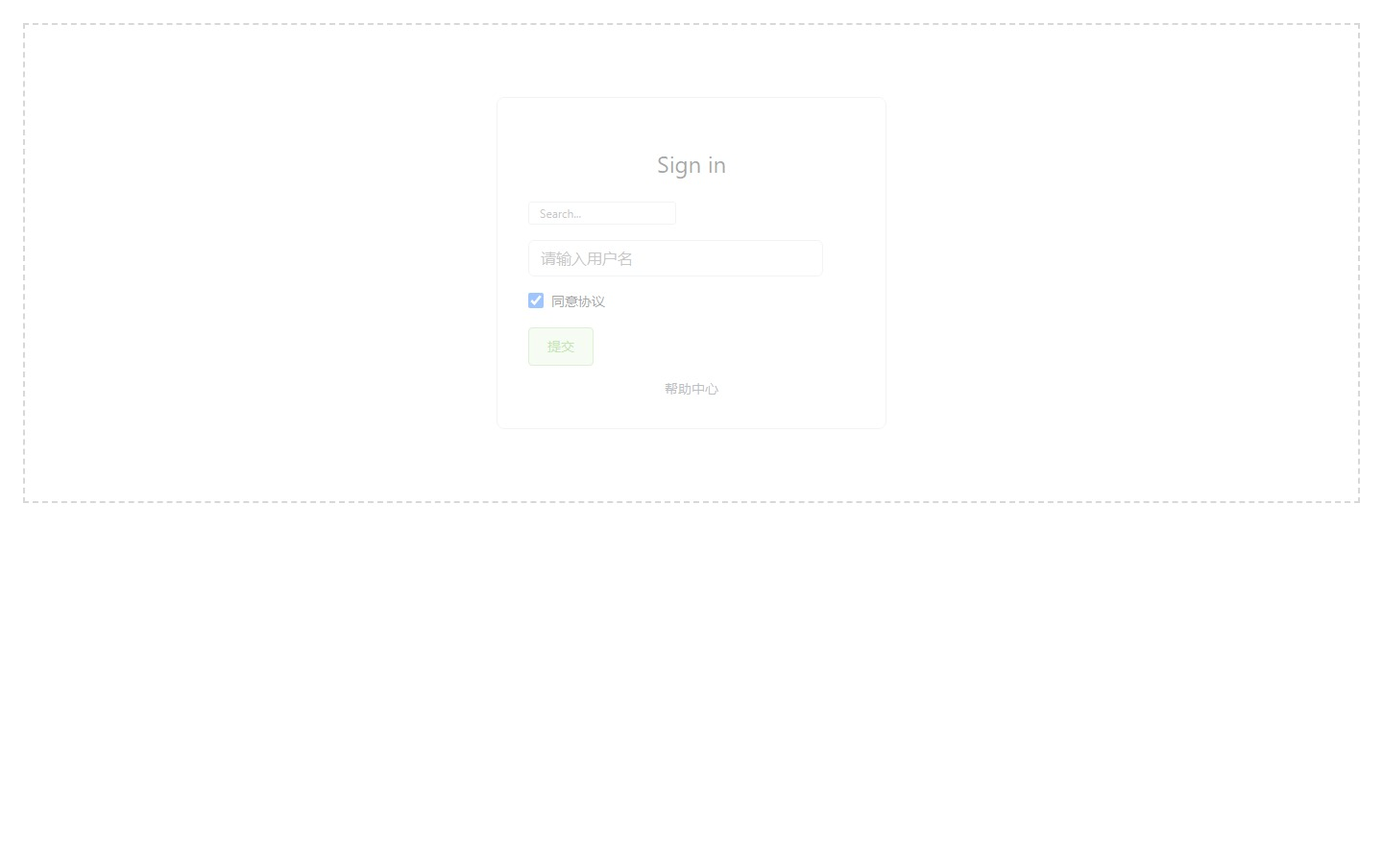button: (528, 328, 594, 366)
checkbox: (528, 293, 544, 308)
icon: (551, 292, 605, 310)
input: (528, 240, 823, 276), (528, 201, 676, 224)
link: (665, 379, 718, 398)
modal: (23, 23, 1360, 503)
radio: (528, 292, 605, 310)
